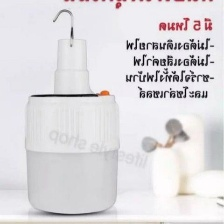light_bulb: (24, 84, 124, 217)
